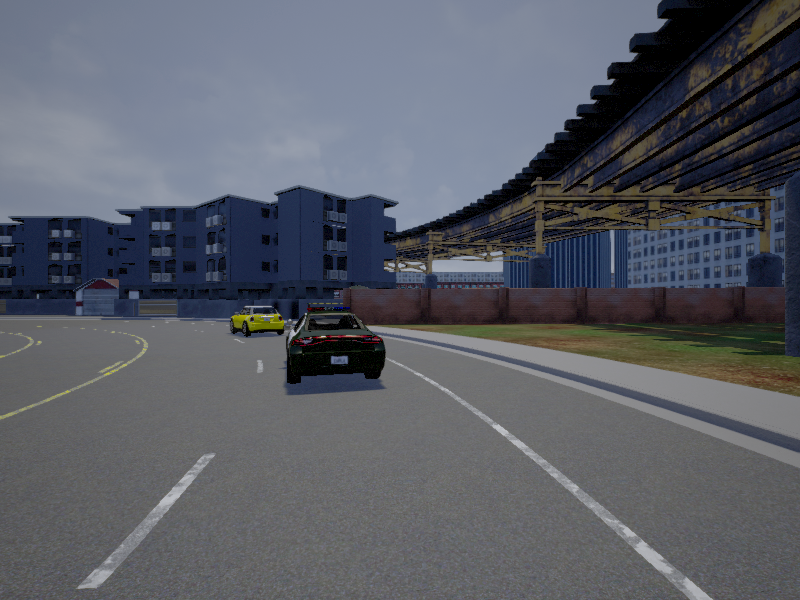Benign: (288, 306, 388, 384), (230, 305, 286, 337)
